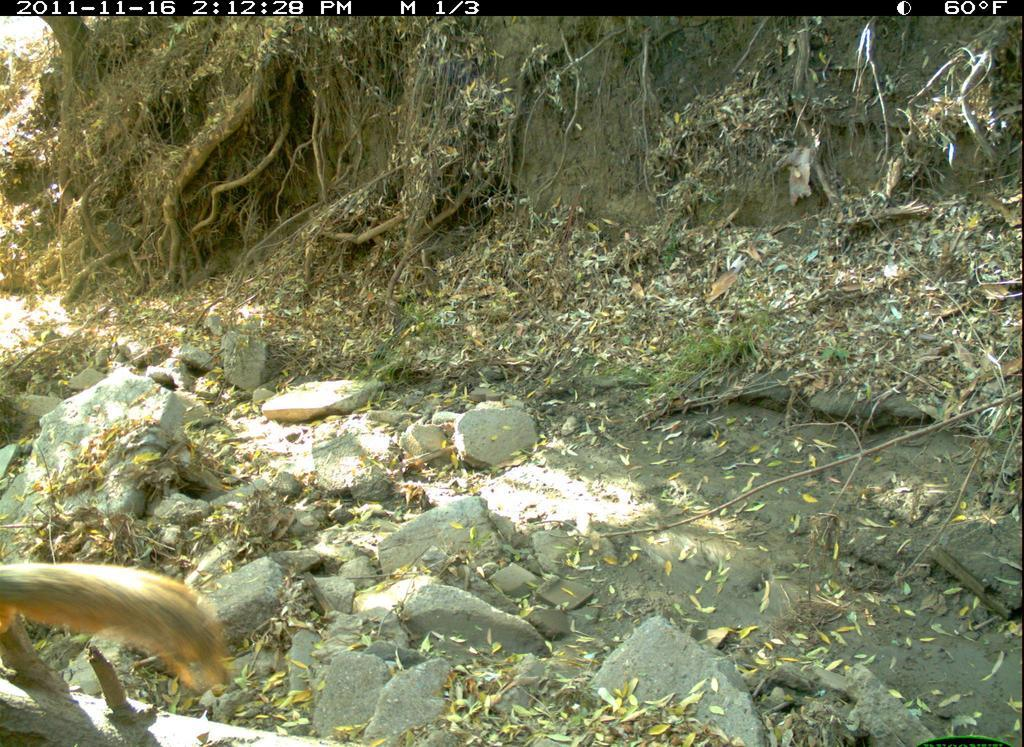squirrel: (1, 561, 227, 715)
